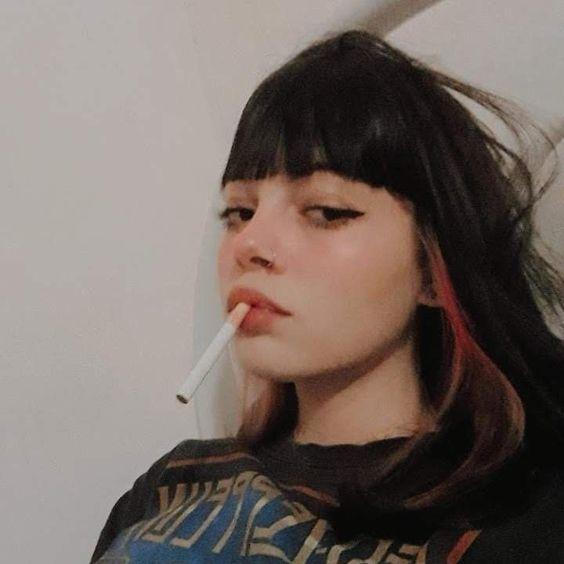cigarette: (176, 301, 252, 404)
